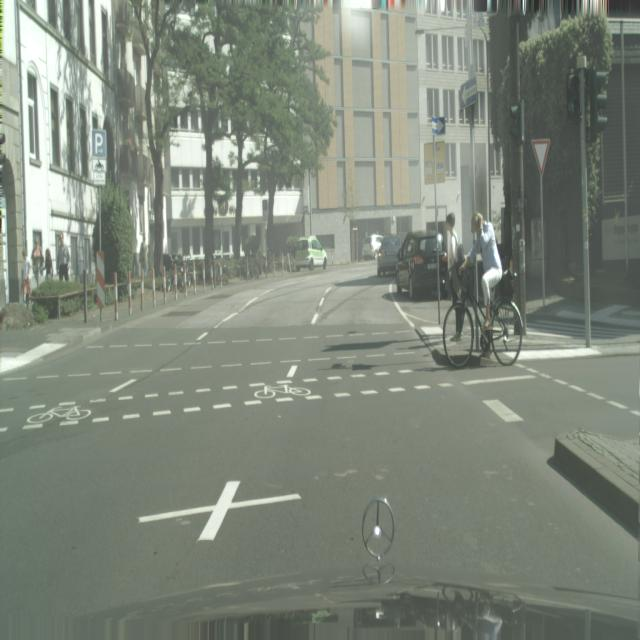car: (442, 212, 523, 368)
person: (445, 213, 461, 309), (22, 248, 32, 308), (58, 234, 69, 282), (31, 241, 41, 288), (45, 246, 53, 281)
truck: (395, 231, 449, 300), (292, 236, 328, 272), (376, 234, 402, 278), (361, 232, 384, 260)
